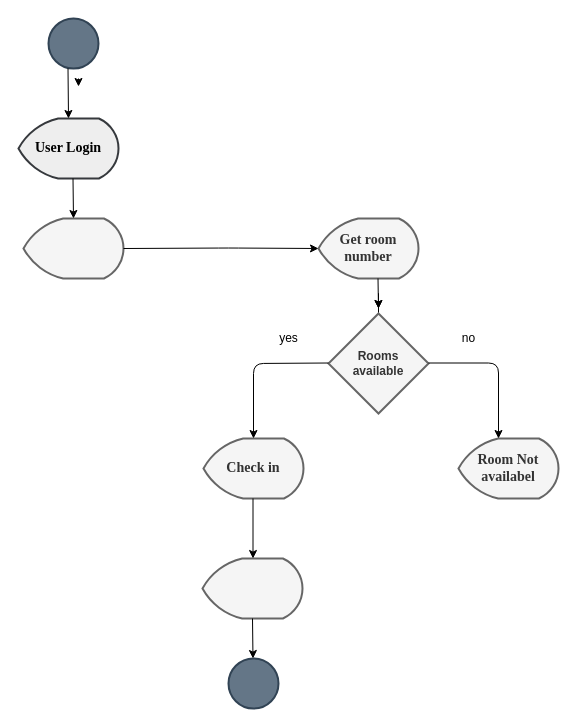
The diagram is 576 pixels wide and 726 high, and some of its shapes have lost their labels. Here are the shapes that lost their labels. From the top down, the centre of each, then its label:
At (73,248): "Get Customer Details".
At (252,588): "Completed".
